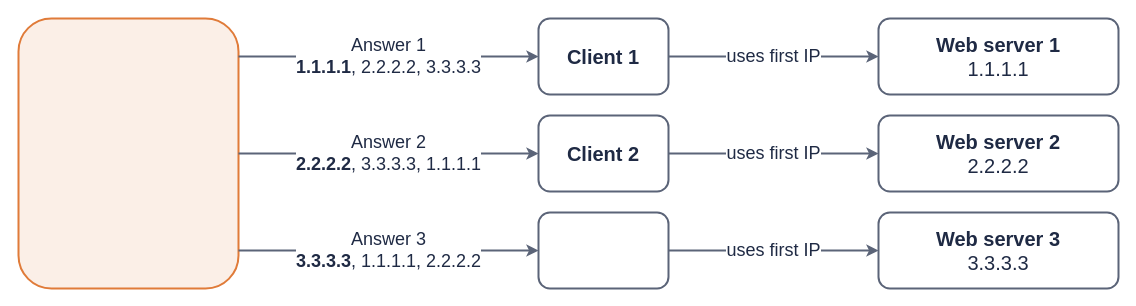
Some shapes in this 1136 by 306 pixel diagram are drawn without their labels. Here are the shapes that lost their labels. From the top down, the centre of each, then its label:
At pixel 128 153: "Authoritative name server www.example.com A 1.1.1.1 A 2.2.2.2 A 3.3.3.3".
At pixel 603 250: "Client 3".
